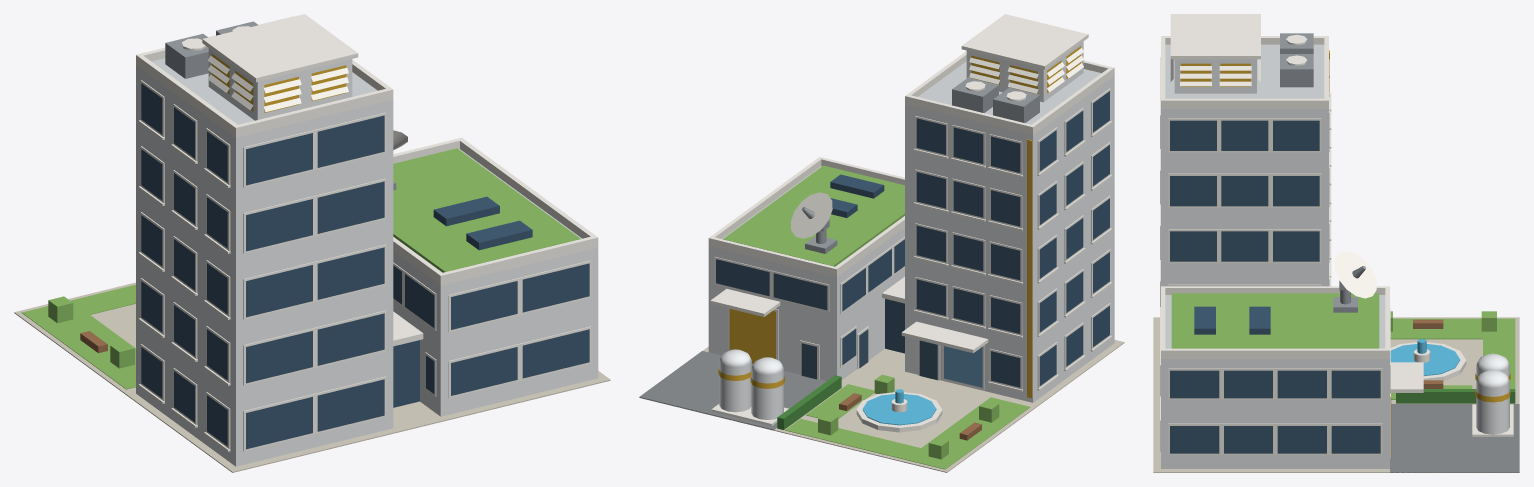
The picture shows the model from 3 angles, left to right: view 1: azimuth 30°, elevation 25°; view 2: azimuth 150°, elevation 25°; view 3: azimuth 270°, elevation 25°; orthographic projection. The views are drawn at different scales.
Parts seen in each view (by area): view 1: research_tower, window_band (×18), lab, green_roof, window_glass (×15), parapet (×6), band_frame (×7), yard, plant_roof, lawn (×2), plant_room, roof (+2 smaller); view 2: research_tower, window_glass (×28), lab, green_roof, yard, parapet (×7), window_band (×6), lawn (×3), service_yard, plant_roof, gas_tank (×2), canopy (×2) (+12 smaller); view 3: window_band (×19), research_tower, lab, green_roof, service_yard, band_frame (×6), parapet (×3), yard, plant_roof, roof (×2), lawn (×2), ac_unit_body (×2) (+9 smaller).
Boxes of the visible parts, x1=… form: research_tower: x1=136, y1=65, x2=393, y2=466; window_band (×18): x1=246, y1=115, x2=589, y2=449; lab: x1=393, y1=247, x2=598, y2=416; green_roof: x1=393, y1=148, x2=580, y2=272; window_glass (×15): x1=141, y1=83, x2=227, y2=445; parapet (×6): x1=138, y1=55, x2=598, y2=285; band_frame (×7): x1=243, y1=112, x2=591, y2=451; yard: x1=14, y1=282, x2=610, y2=472; plant_roof: x1=202, y1=14, x2=358, y2=82; lawn (×2): x1=21, y1=284, x2=135, y2=389; plant_room: x1=208, y1=48, x2=352, y2=120; roof: x1=151, y1=58, x2=377, y2=124; research_tower: x1=905, y1=76, x2=1114, y2=402; window_glass (×28): x1=916, y1=91, x2=1109, y2=387; lab: x1=708, y1=228, x2=904, y2=380; green_roof: x1=723, y1=165, x2=904, y2=266; yard: x1=639, y1=340, x2=1124, y2=472; parapet (×7): x1=708, y1=51, x2=1112, y2=277; window_band (×6): x1=716, y1=174, x2=904, y2=353; lawn (×3): x1=785, y1=384, x2=1030, y2=469; service_yard: x1=639, y1=351, x2=826, y2=430; plant_roof: x1=961, y1=14, x2=1088, y2=69; gas_tank (×2): x1=719, y1=361, x2=783, y2=419; canopy (×2): x1=710, y1=288, x2=988, y2=353; window_band (×19): x1=1170, y1=120, x2=1380, y2=453; research_tower: x1=1161, y1=109, x2=1328, y2=286; lab: x1=1161, y1=359, x2=1389, y2=468; green_roof: x1=1171, y1=293, x2=1379, y2=348; service_yard: x1=1390, y1=404, x2=1519, y2=472; band_frame (×6): x1=1168, y1=118, x2=1382, y2=454; parapet (×3): x1=1165, y1=98, x2=1385, y2=358; yard: x1=1153, y1=317, x2=1519, y2=472; plant_roof: x1=1170, y1=14, x2=1260, y2=59; roof (×2): x1=1165, y1=44, x2=1385, y2=348; lawn (×2): x1=1390, y1=318, x2=1515, y2=388; ac_unit_body (×2): x1=1280, y1=33, x2=1313, y2=87.
Bounding box in the file's own units: 24 × 22.97 × 24.
